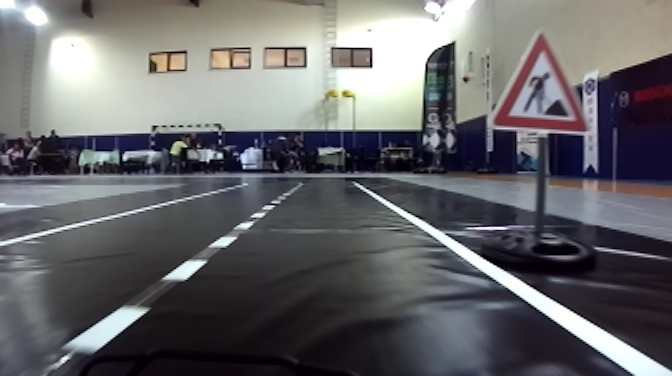yol_yapimi: (473, 28, 600, 129)
